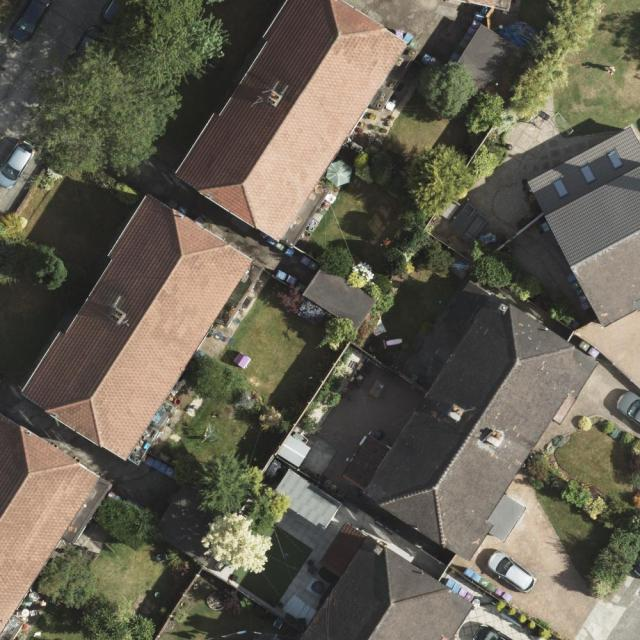roof: (342, 281, 600, 564), (18, 194, 256, 459), (175, 0, 408, 241), (524, 124, 640, 325), (0, 413, 102, 640), (295, 520, 475, 640)
skylight: (606, 148, 627, 172), (577, 162, 597, 185), (553, 177, 570, 200)
